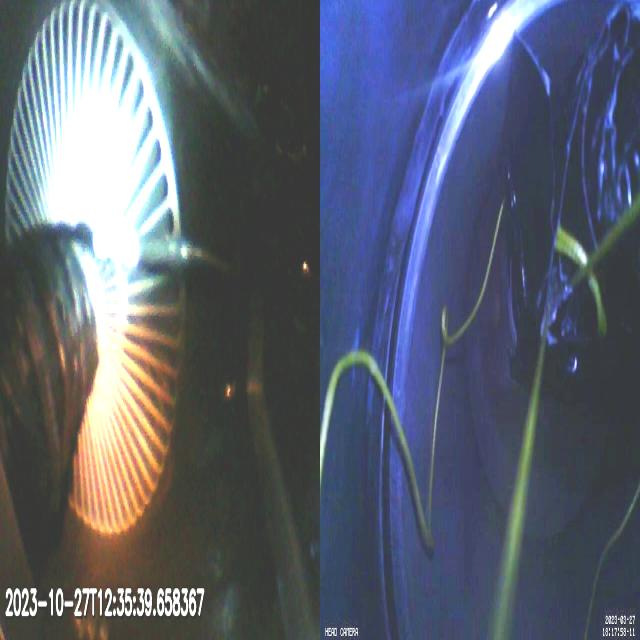white-dots: (92, 217, 141, 271)
